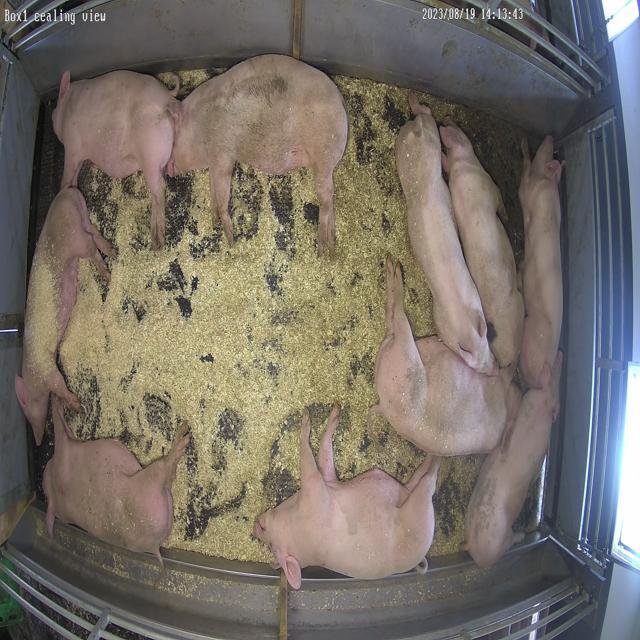Dirt: (419, 91, 529, 265)
Pig: (168, 54, 348, 254), (254, 409, 440, 590), (375, 262, 520, 457), (396, 99, 496, 374), (15, 188, 109, 444), (43, 399, 190, 562), (52, 70, 176, 248), (440, 121, 525, 368), (466, 353, 562, 568), (520, 136, 564, 390)
